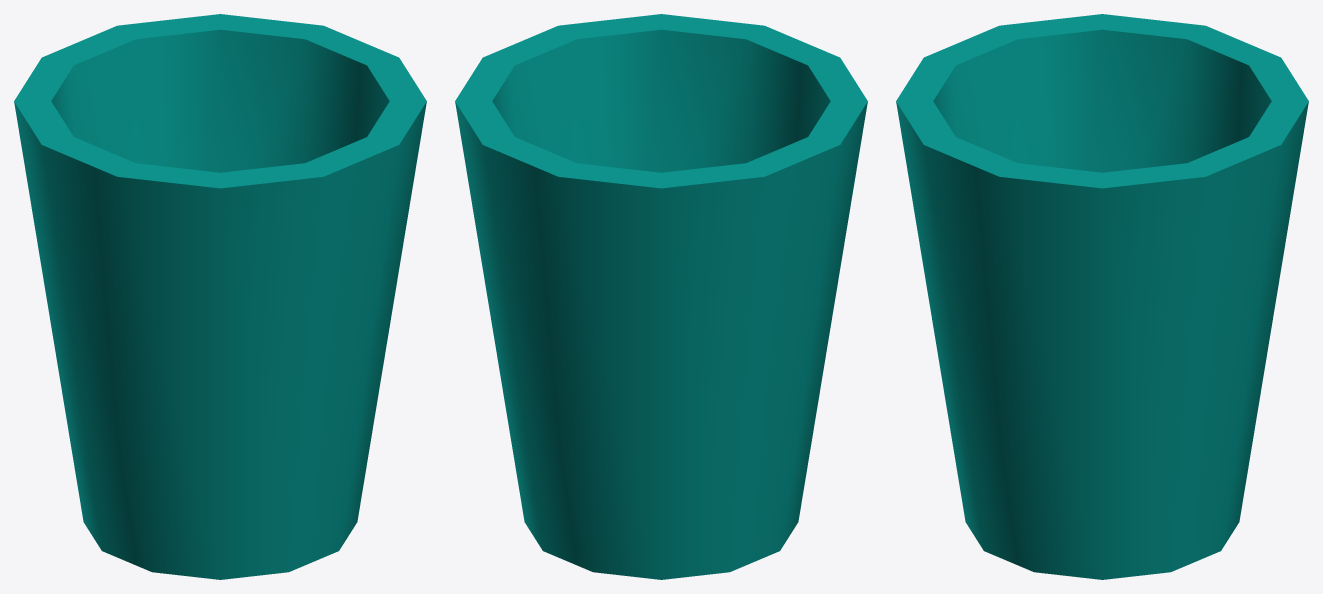
File: Glass.fbx
3 renders of one model, left to right at view 1: azimuth 30°, elevation 25°; view 2: azimuth 150°, elevation 25°; view 3: azimuth 270°, elevation 25°, orthographic.
Parts seen in each view (by area): view 1: Glass; view 2: Glass; view 3: Glass.
Part boxes in pixels (x1=…): Glass: x1=14, y1=14, x2=426, y2=579; Glass: x1=455, y1=14, x2=867, y2=579; Glass: x1=896, y1=14, x2=1308, y2=579.
Size of the model in its own units: 21.93 by 21.93 by 24.66.
